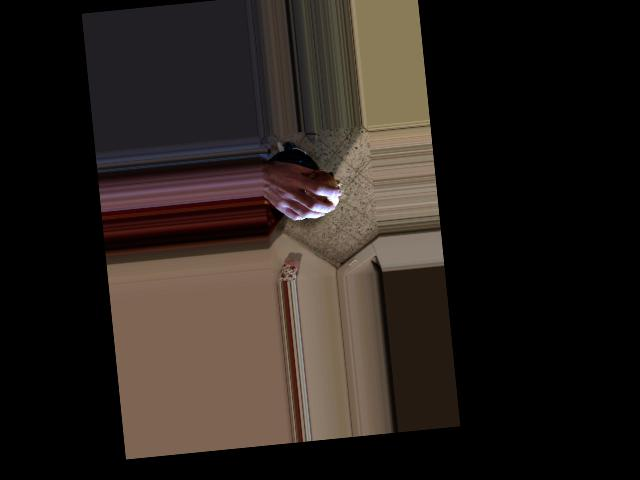onion: (299, 169, 341, 213)
